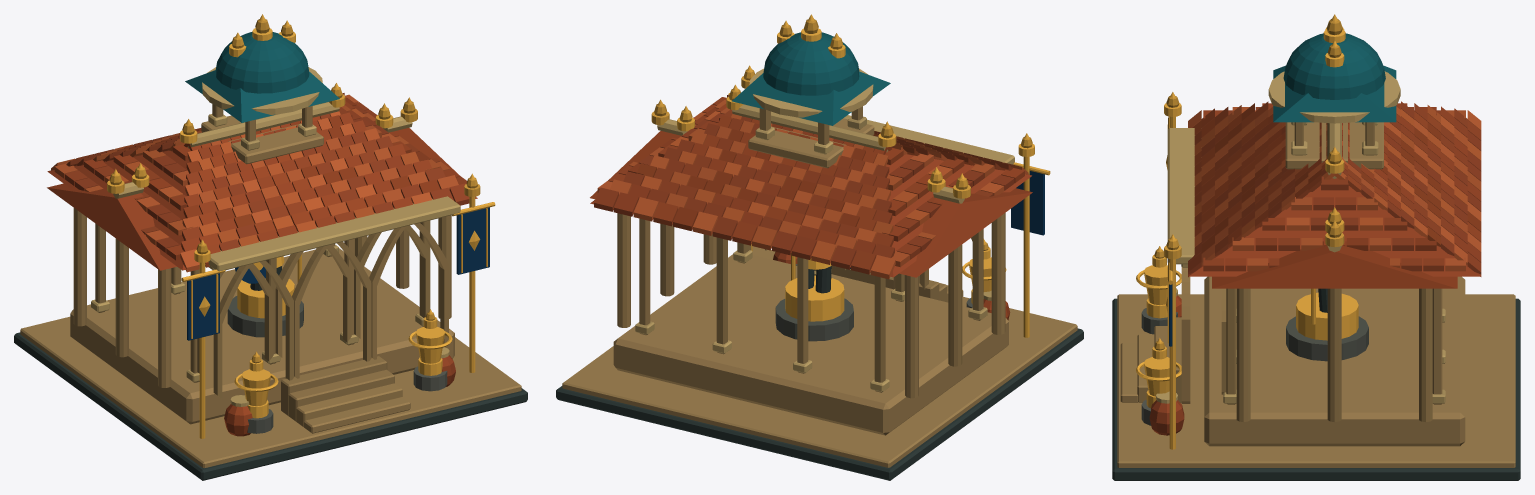
3 renders of one model, left to right at view 1: azimuth 30°, elevation 25°; view 2: azimuth 150°, elevation 25°; view 3: azimuth 270°, elevation 25°, orthographic. The views are drawn at different scales.
Visible parts, largest first — view 1: hero_hall_level5_structure, hero_hall_level5_metal; view 2: hero_hall_level5_structure, hero_hall_level5_metal; view 3: hero_hall_level5_structure, hero_hall_level5_metal.
Boxes of the visible parts, x1,y1,x2,y2 form: hero_hall_level5_structure: (14, 19, 527, 480); hero_hall_level5_metal: (107, 14, 495, 438); hero_hall_level5_structure: (556, 19, 1083, 480); hero_hall_level5_metal: (651, 14, 1050, 337); hero_hall_level5_structure: (1112, 19, 1520, 480); hero_hall_level5_metal: (1136, 14, 1358, 449).
Size of the model in its own units: 5.6 by 5.78 by 5.6.
